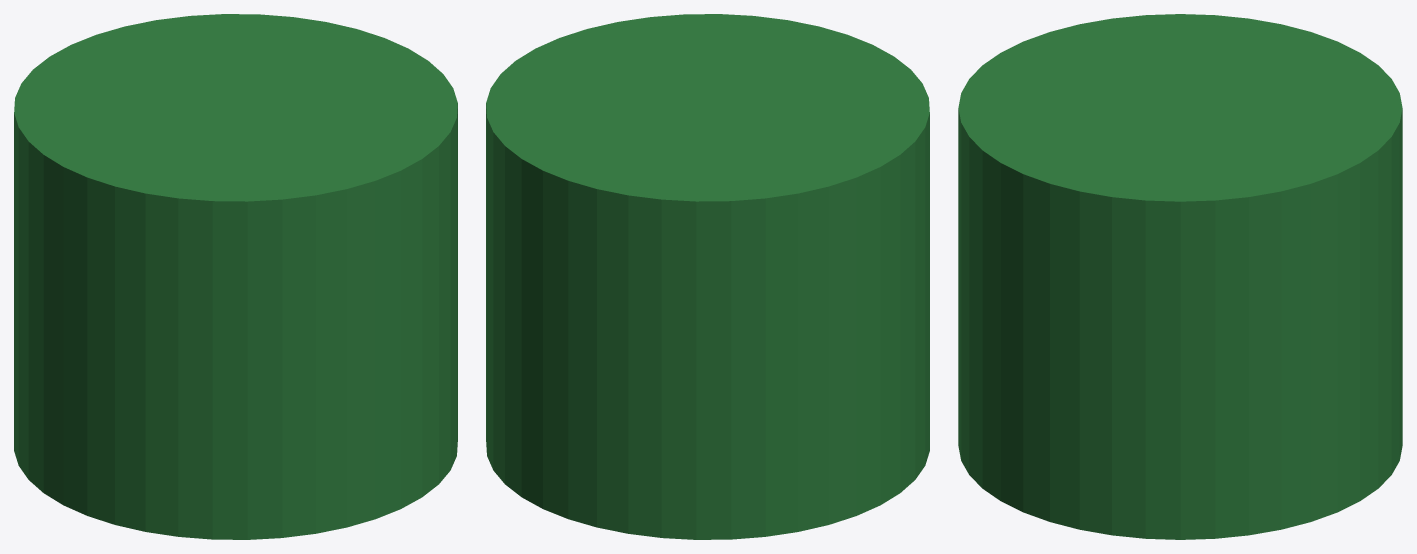
The model's file is glass_water.fbx.
3 views of the same model, side by side, from view 1: azimuth 30°, elevation 25°; view 2: azimuth 150°, elevation 25°; view 3: azimuth 270°, elevation 25° (orthographic).
Visible parts, largest first — view 1: Circle.016; view 2: Circle.016; view 3: Circle.016.
Part boxes in pixels (x1,y1,x2,y2): Circle.016: (14, 14, 457, 539); Circle.016: (486, 14, 929, 539); Circle.016: (958, 14, 1402, 539).
Bounding box in the file's own units: 975 × 820 × 975.
